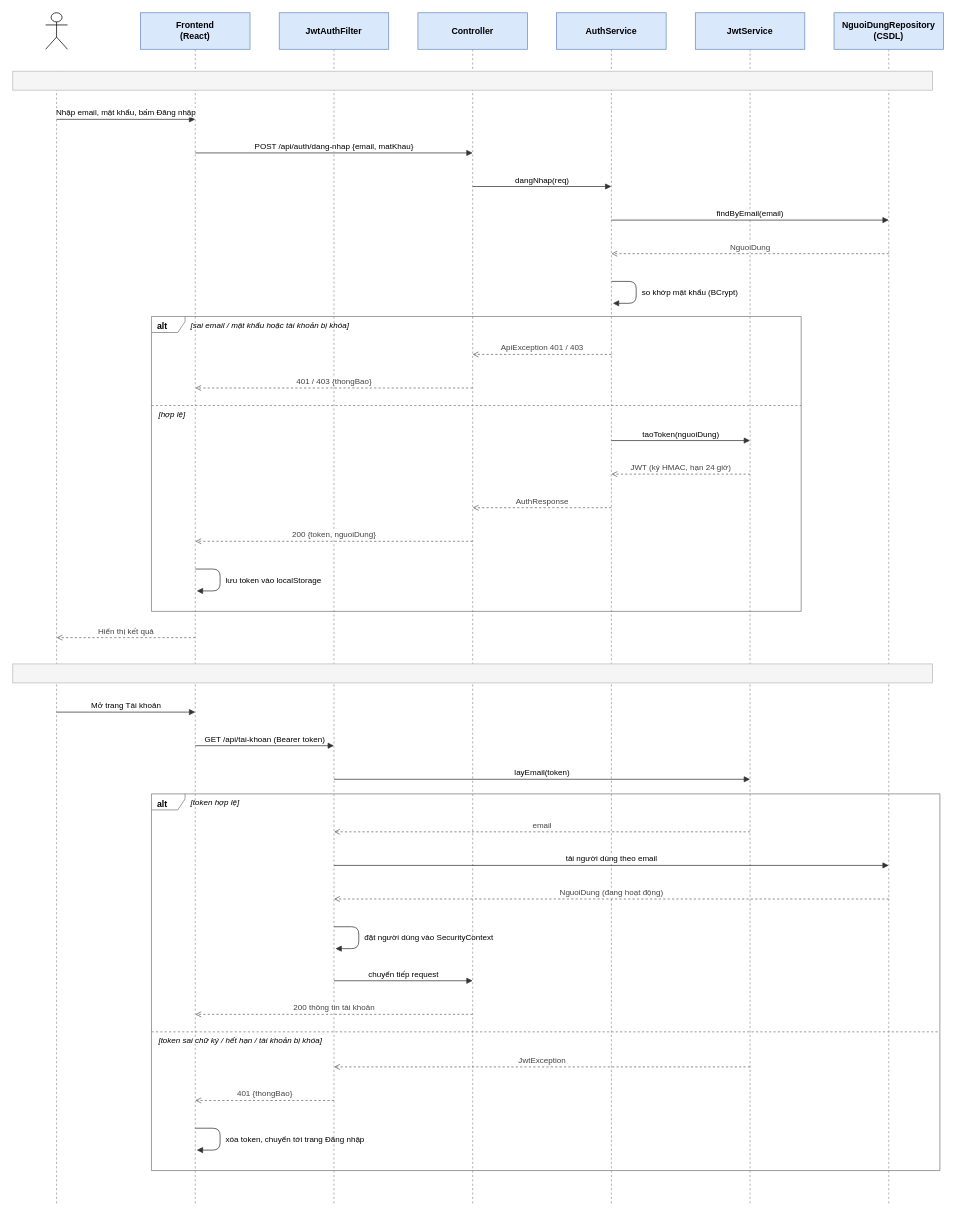
This 956x1218 diagram has some shape labels left out. Here are the shapes that lost their labels. From the top down, the centre of each, then its label:
At point (56, 30): "Người dùng".
At point (472, 80): "1. Đăng nhập".
At point (472, 673): "2. Gọi API cần đăng nhập".
